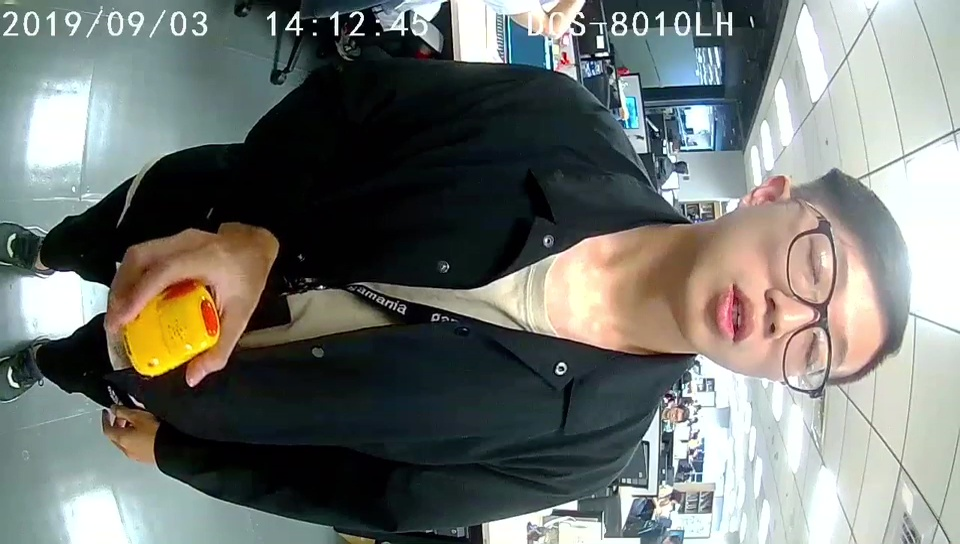car: (120, 277, 219, 378)
